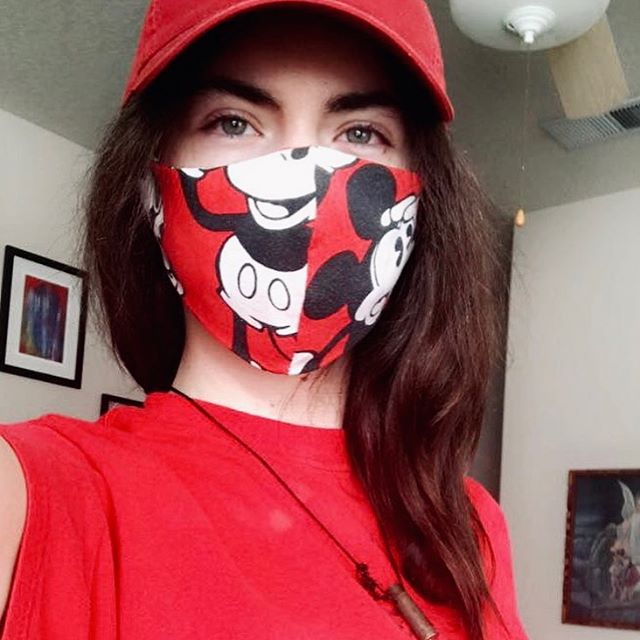homemade: (137, 152, 432, 376)
